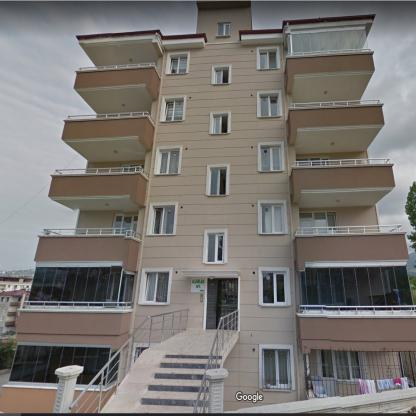door: (206, 278, 238, 329), (316, 350, 339, 396), (301, 219, 315, 233), (130, 221, 137, 238)
window: (299, 261, 415, 311), (28, 263, 134, 306), (8, 342, 110, 386), (287, 25, 368, 55), (262, 349, 291, 389), (335, 350, 365, 382), (142, 270, 170, 304), (261, 271, 287, 304), (150, 203, 176, 235), (300, 212, 338, 233), (260, 203, 284, 233), (156, 148, 180, 174), (260, 144, 282, 172), (206, 231, 224, 263), (208, 167, 227, 195), (162, 97, 184, 121), (113, 214, 138, 235), (259, 94, 280, 117), (259, 49, 278, 69), (168, 55, 187, 74), (212, 114, 228, 132), (296, 157, 330, 165), (214, 67, 229, 84), (217, 23, 230, 36)
